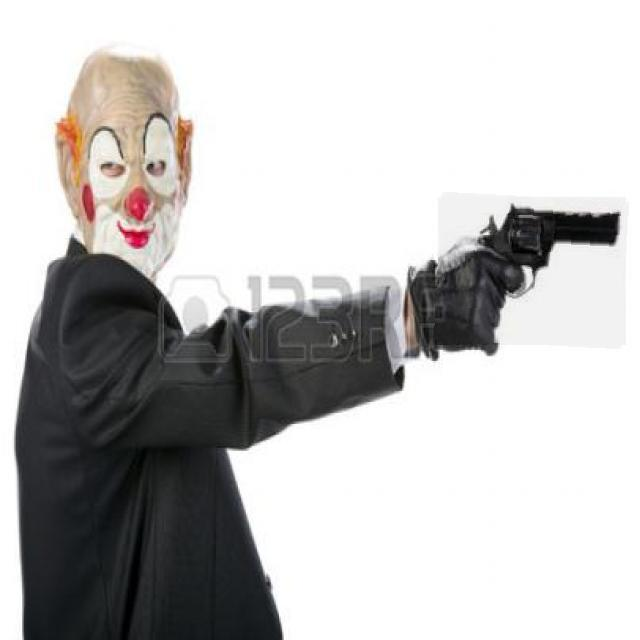handgun: (436, 195, 628, 348)
